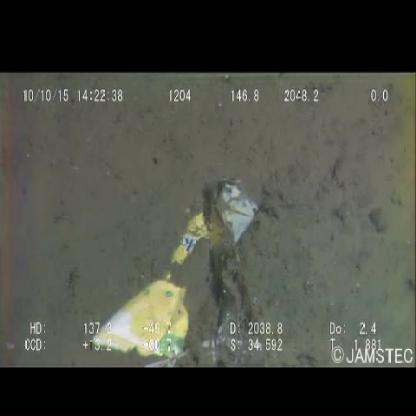Rác: (86, 172, 262, 362)
